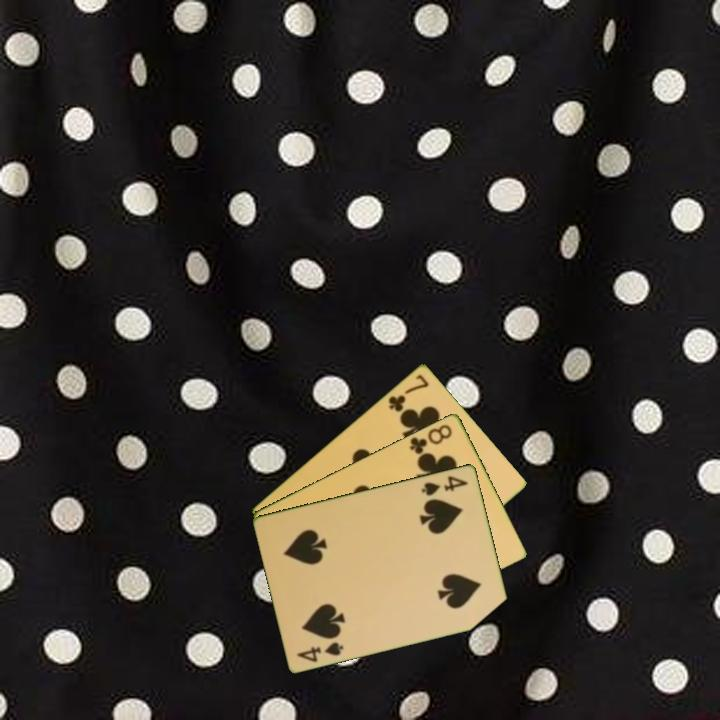4s: (293, 638, 347, 665), (418, 472, 471, 498)
7c: (384, 370, 432, 415)
8c: (406, 420, 455, 459)
